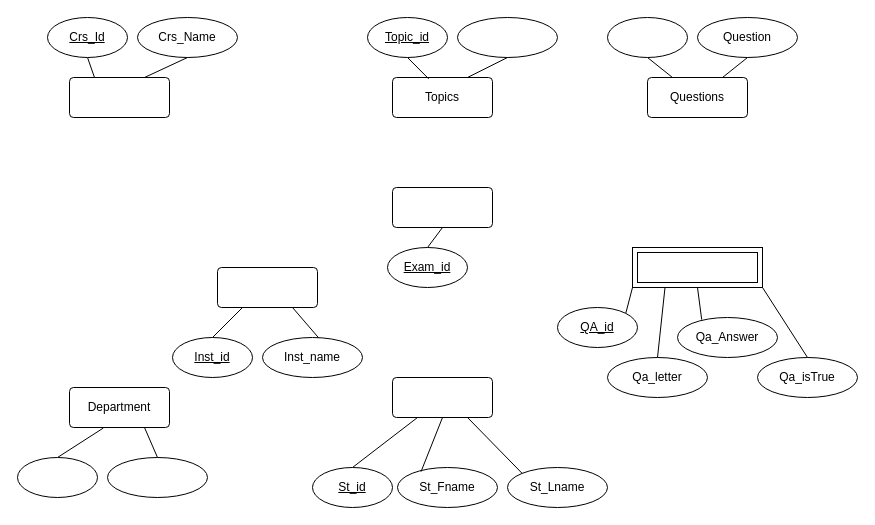
This 875x525 diagram has some shape labels left out. The box of each missing label's shape, as (x1, y1, x2, y2) in pixels:
Courses: (68, 76, 170, 118)
Dept_Name: (106, 456, 208, 498)
Dept_No: (16, 456, 98, 498)
Exam: (392, 186, 492, 228)
Instructor: (216, 266, 318, 308)
Q_No: (606, 16, 688, 58)
Question_Answers: (632, 246, 762, 288)
Student: (392, 376, 492, 418)
Topic_name: (456, 16, 558, 58)
